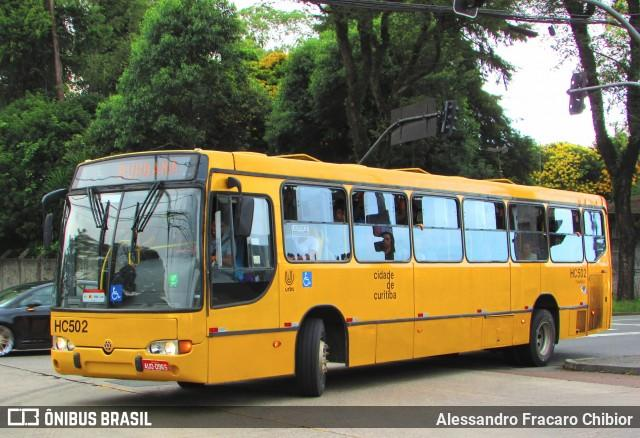RURBANA: (114, 156, 182, 183)
